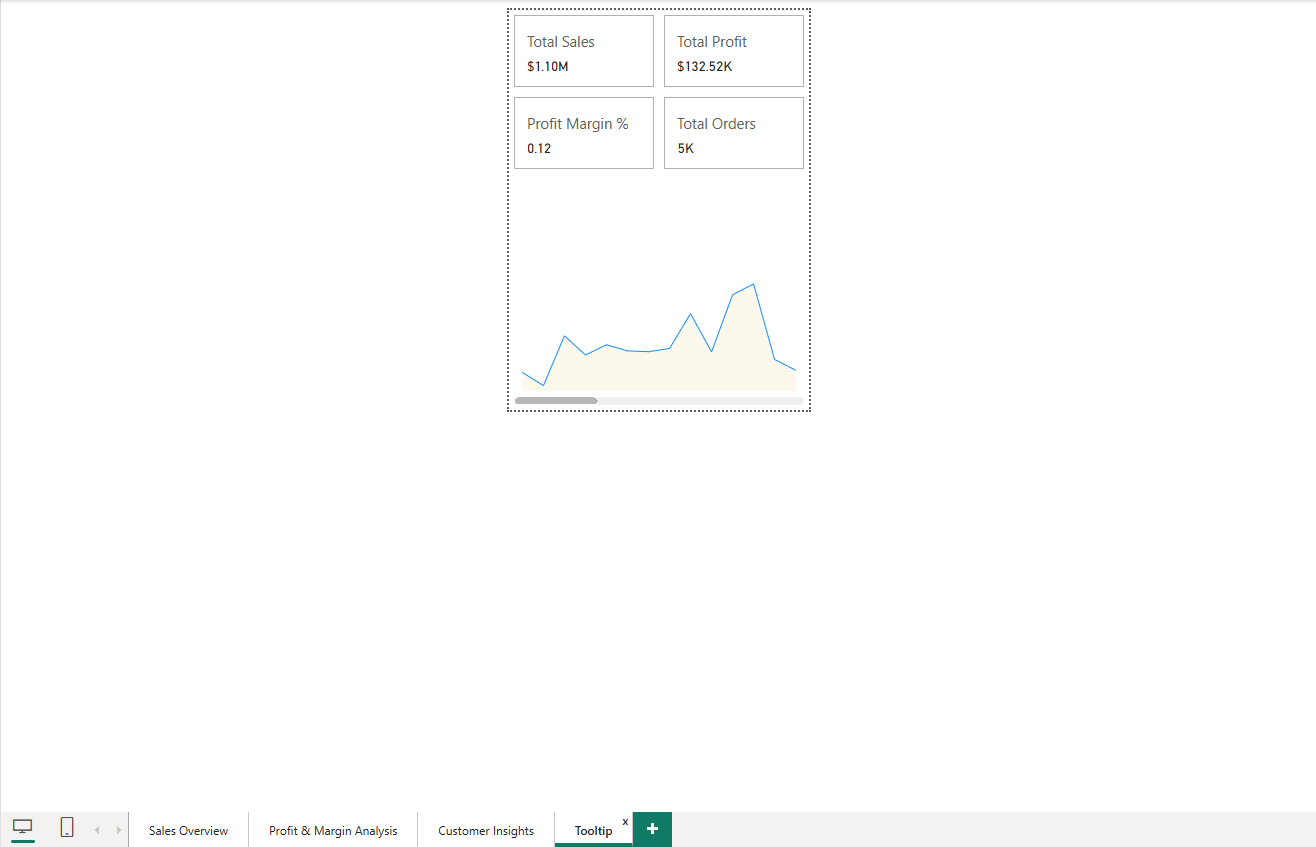

This screenshot's page, from the dashboard's own definition file:
{"tool":"powerbi","page":{"name":"Tooltip","canvas":[300,400],"ordinal":3},"visuals":[{"type":"cardVisual","fields":{"Data":["DateTable.Total Sales"]},"box":[0,0,150,82],"z":0},{"type":"lineChart","fields":{"Category":["DateTable.YearMonth"],"Y":["DateTable.Total Sales"]},"box":[0,164,300,236],"z":1000},{"type":"cardVisual","fields":{"Data":["DateTable.Total Profit"]},"box":[150,0,150,82],"z":2000},{"type":"cardVisual","fields":{"Data":["DateTable.Profit Margin %"]},"box":[0,82,150,82],"z":3000},{"type":"cardVisual","fields":{"Data":["DateTable.Total Orders"]},"box":[150,82,150,82],"z":4000}]}

Visuals, with their boxes on the page's 300x400 design canvas (x1, y1, x2, y2). These are canvas units, not pixel positions in the 1316x847 screenshot, which may show the page scaled, cropped or inside an application window:
cardVisual - DateTable.Total Sales: [0,0,150,82]
lineChart - DateTable.YearMonth x DateTable.Total Sales: [0,164,300,400]
cardVisual - DateTable.Total Profit: [150,0,300,82]
cardVisual - DateTable.Profit Margin %: [0,82,150,164]
cardVisual - DateTable.Total Orders: [150,82,300,164]
